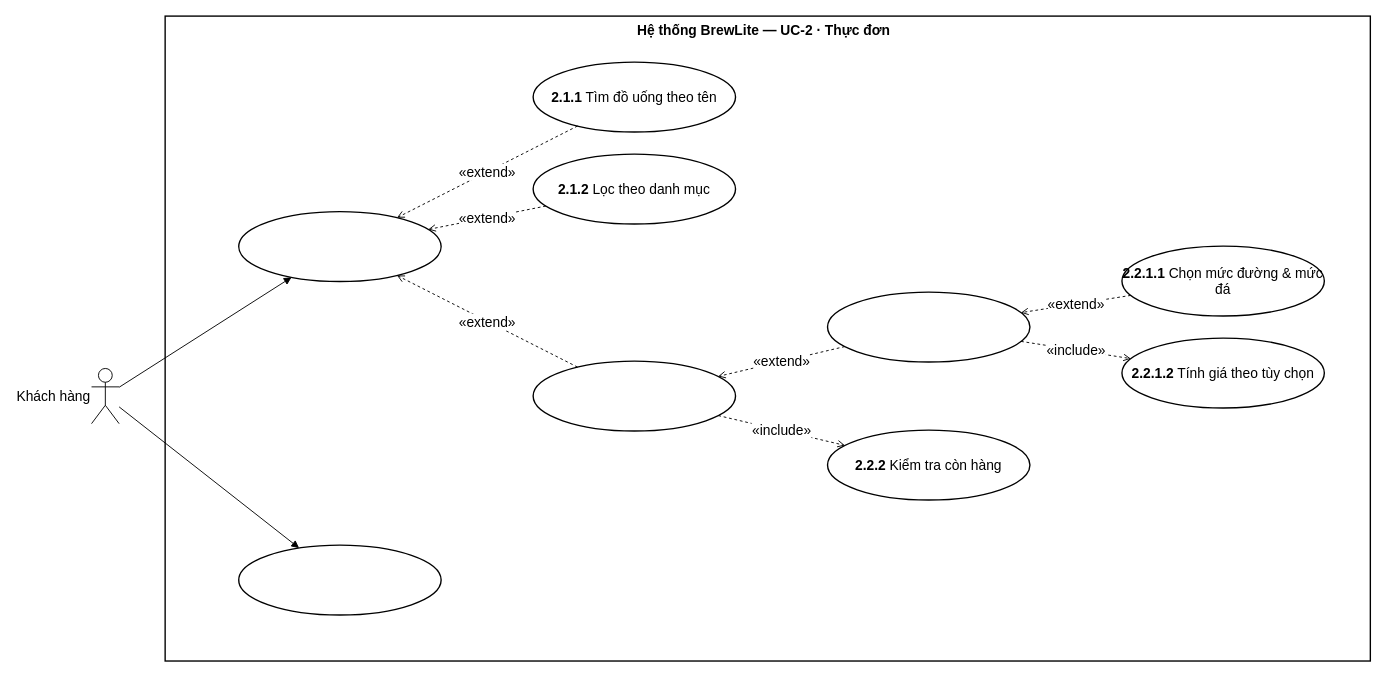
Some shapes in this 1386 by 678 pixel diagram are drawn without their labels. The centre of each missing label's shape, as x and y in pixels:
"2.1 Xem menu" belongs at (x=339, y=246).
"2.2 Xem chi tiết sản phẩm" belongs at (x=634, y=395).
"2.2.1 Chọn size / topping" belongs at (x=928, y=326).
"2.3 Xem khuyến mãi đang chạy" belongs at (x=339, y=579).
